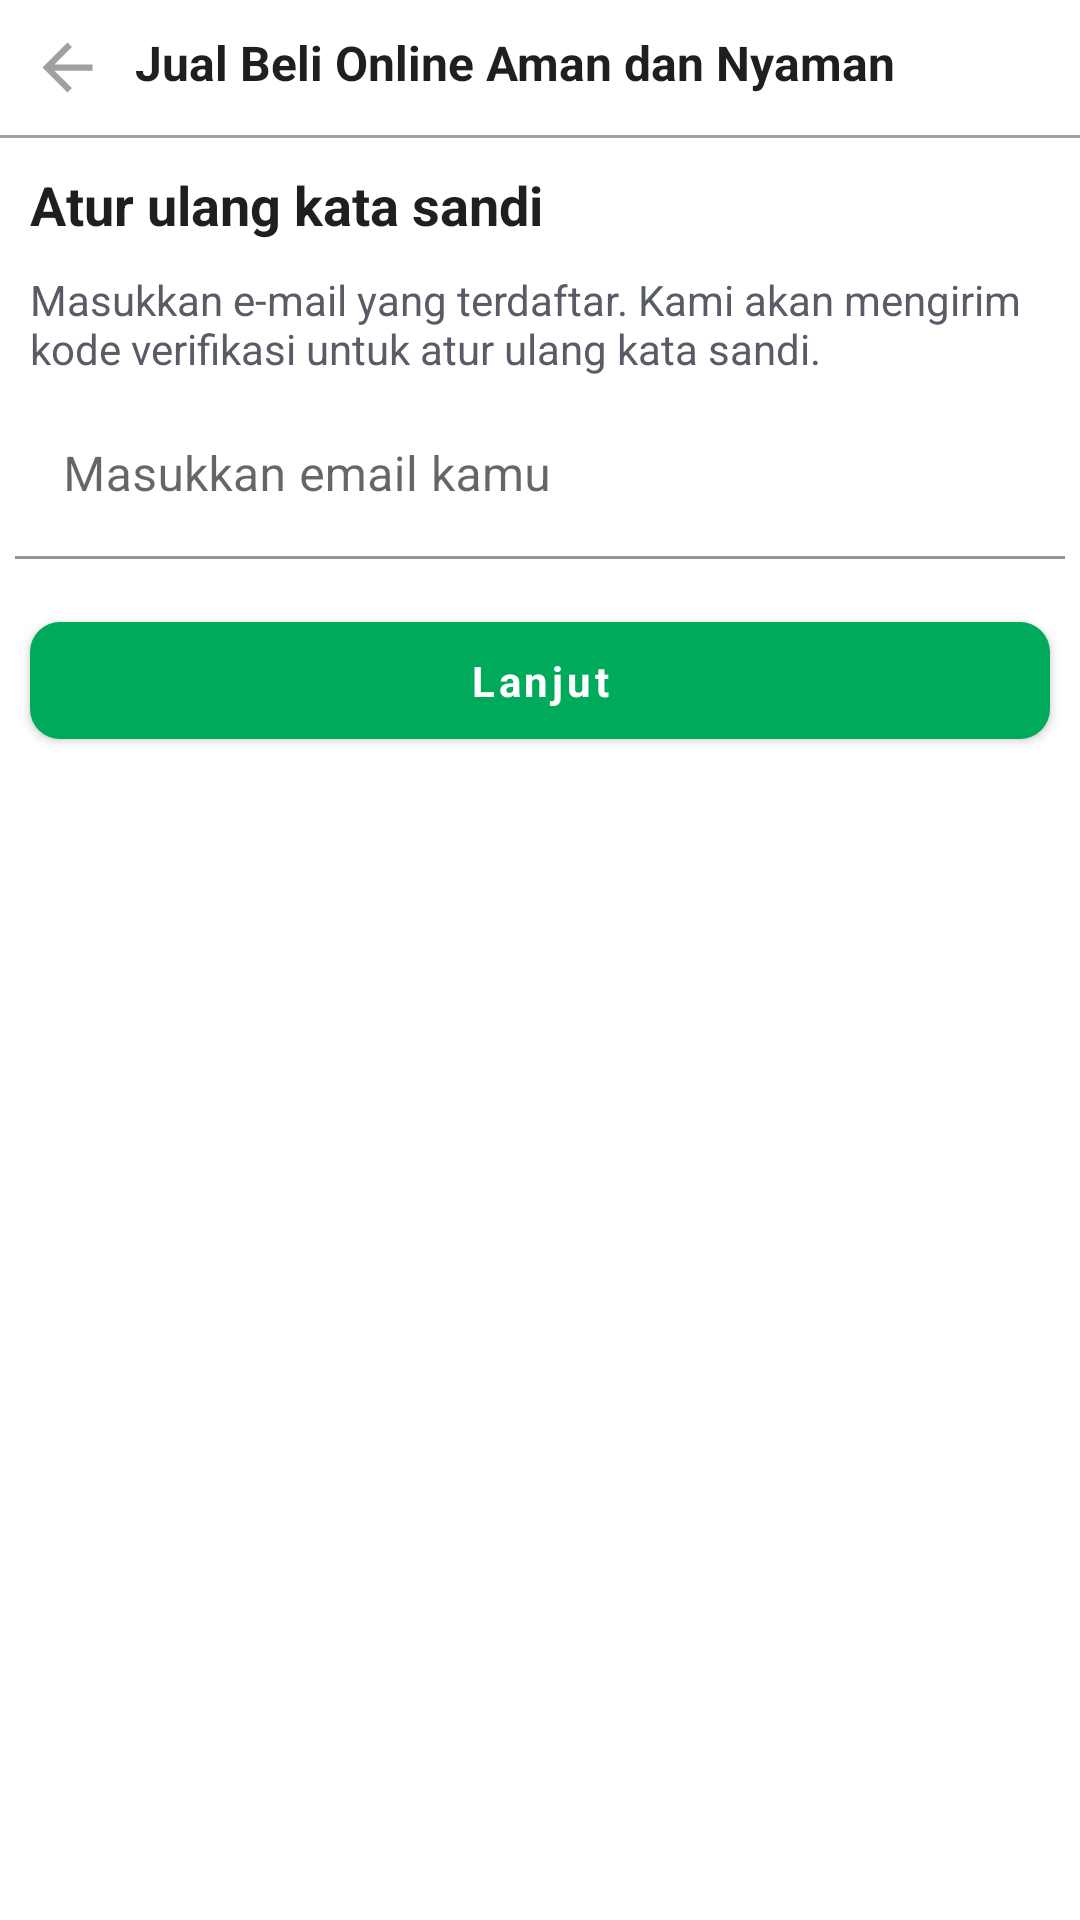

Icons on this 1080x1920 Android screen, each with its box as (x1, y1, x2, y2):
back: (43, 43, 93, 92)
